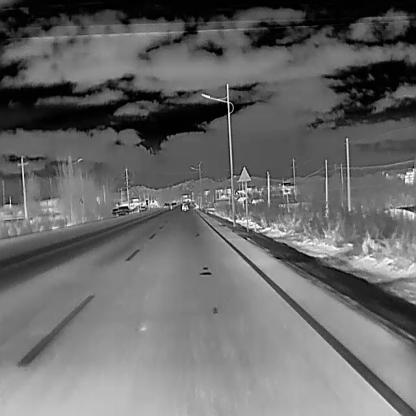car: (116, 204, 130, 214), (110, 207, 118, 217), (181, 202, 188, 210), (163, 202, 167, 208), (166, 203, 170, 208)
